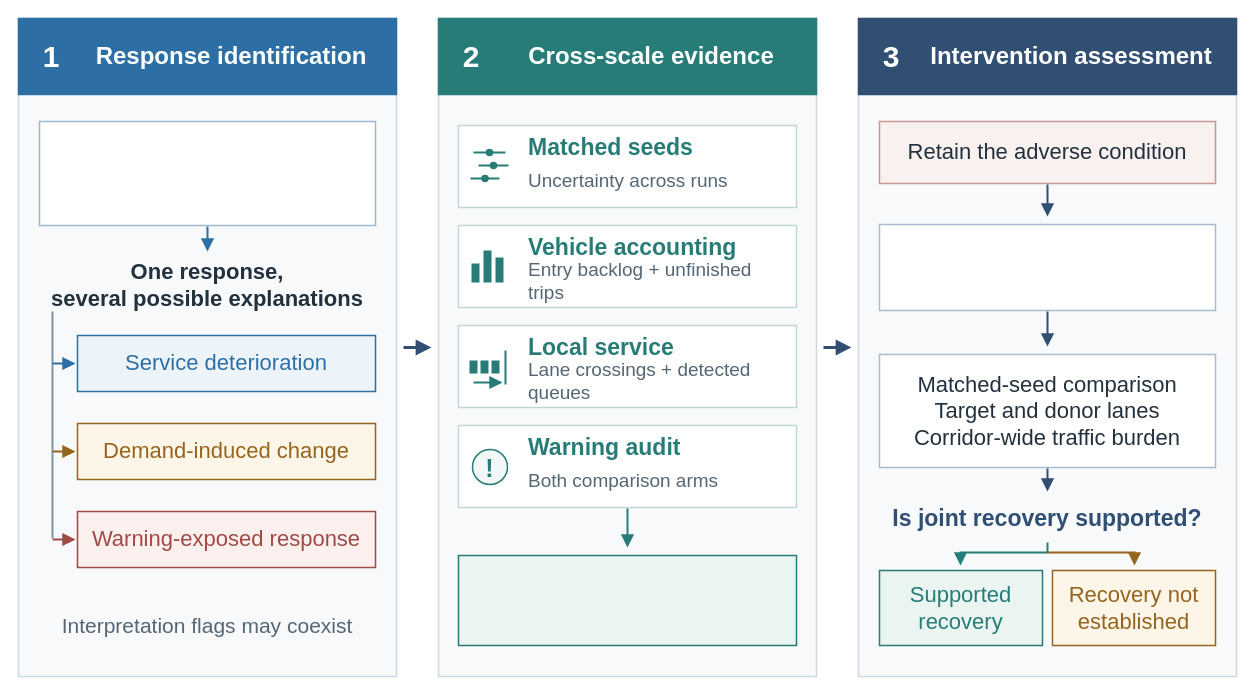
This 1254x694 diagram has some shape labels left out. The box of each missing label's shape, as (x1, y1, x2, y2) in pixels:
Change a different control lever (e.g., green reallocation): (878, 223, 1216, 311)
Evidence integration Support and uncertainty: (457, 554, 797, 646)
Matched SUMO responses ΔQ, ΔD, ΔH: (38, 120, 376, 226)
